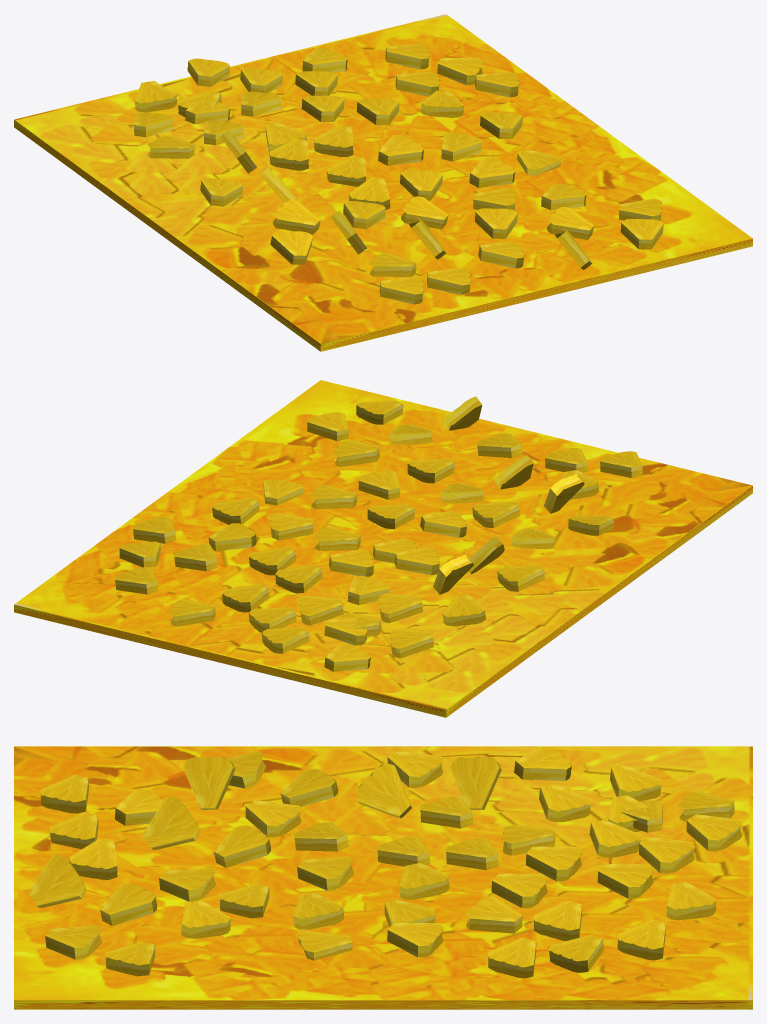
Rendered from pineapple_hoopje_alt.glb.
3 renders of one model, top to bottom at view 1: azimuth 30°, elevation 25°; view 2: azimuth 150°, elevation 25°; view 3: azimuth 270°, elevation 25°, orthographic. The views are drawn at different scales.
Parts seen in each view (by area): view 1: Cube.580, Cube.001, Cube.012, Cube.529, Cube.528, Cube.531, Cube.000, Cube.022, Cube.003, Cube.018, Cube.402, Cube.399 (+35 smaller); view 2: Cube.580, Cube.442, Cube.439, Cube.440, Cube.434, Cube.022, Cube.569, Cube.575, Cube.587, Cube.402, Cube.399, Cube.515 (+36 smaller); view 3: Cube.580, Cube.011, Cube.005, Cube.015, Cube.014, Cube.006, Cube.003, Cube.018, Cube.512, Cube.020, Cube.574, Cube.569 (+38 smaller).
Boxes of the visible parts, left/top/right/bottom form: Cube.580: left=14, top=14, right=752, bottom=351; Cube.001: left=273, top=200, right=320, bottom=234; Cube.012: left=270, top=231, right=312, bottom=264; Cube.529: left=378, top=135, right=423, bottom=165; Cube.528: left=469, top=157, right=515, bottom=187; Cube.531: left=474, top=208, right=517, bottom=238; Cube.000: left=620, top=218, right=663, bottom=249; Cube.022: left=135, top=81, right=176, bottom=112; Cube.003: left=546, top=207, right=594, bottom=239; Cube.018: left=401, top=196, right=448, bottom=229; Cube.402: left=269, top=138, right=308, bottom=170; Cube.399: left=314, top=125, right=353, bottom=156; Cube.580: left=14, top=380, right=752, bottom=717; Cube.442: left=299, top=595, right=343, bottom=625; Cube.439: left=389, top=628, right=433, bottom=658; Cube.440: left=378, top=593, right=422, bottom=623; Cube.434: left=442, top=594, right=485, bottom=626; Cube.022: left=324, top=643, right=370, bottom=671; Cube.569: left=208, top=523, right=256, bottom=551; Cube.575: left=275, top=564, right=322, bottom=593; Cube.587: left=222, top=583, right=269, bottom=612; Cube.402: left=394, top=547, right=439, bottom=575; Cube.399: left=329, top=549, right=373, bottom=576; Cube.515: left=497, top=565, right=544, bottom=591; Cube.580: left=14, top=746, right=752, bottom=1009; Cube.011: left=142, top=797, right=199, bottom=849; Cube.005: left=28, top=855, right=86, bottom=907; Cube.015: left=183, top=757, right=235, bottom=809; Cube.014: left=449, top=757, right=501, bottom=809; Cube.006: left=356, top=763, right=411, bottom=818; Cube.003: left=100, top=883, right=157, bottom=925; Cube.018: left=214, top=825, right=270, bottom=867; Cube.512: left=245, top=800, right=301, bottom=837; Cube.020: left=686, top=814, right=742, bottom=851; Cube.574: left=491, top=873, right=548, bottom=908; Cube.569: left=466, top=897, right=522, bottom=933.
Bounding box in the file's own units: 1.02 × 0.1143 × 1.26.
Materials: 50 (50 with a texture image).
